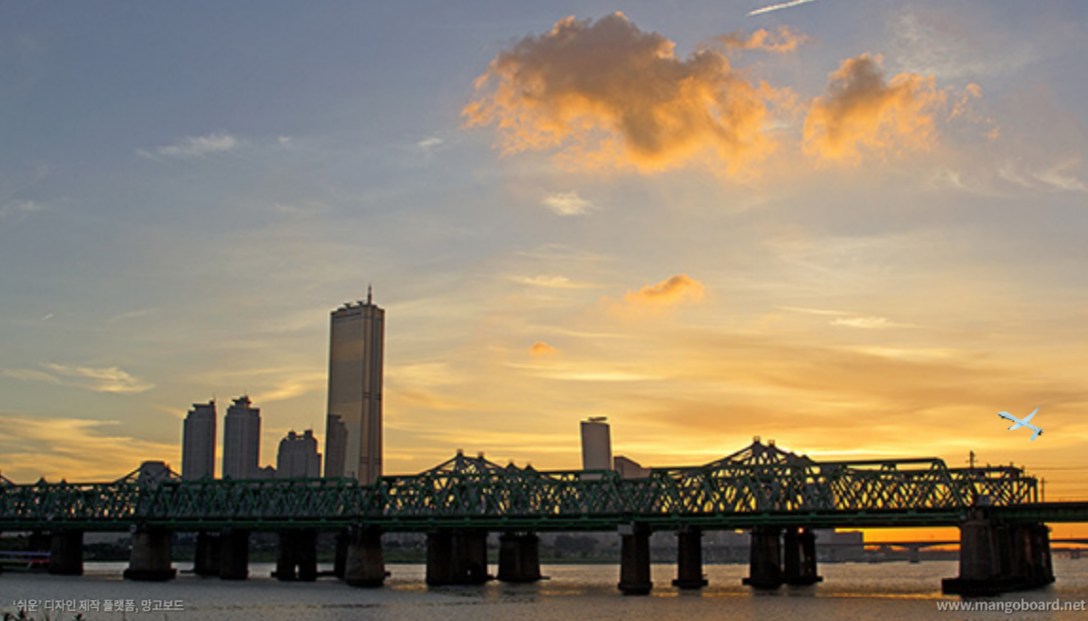military drone: (996, 405, 1044, 441)
